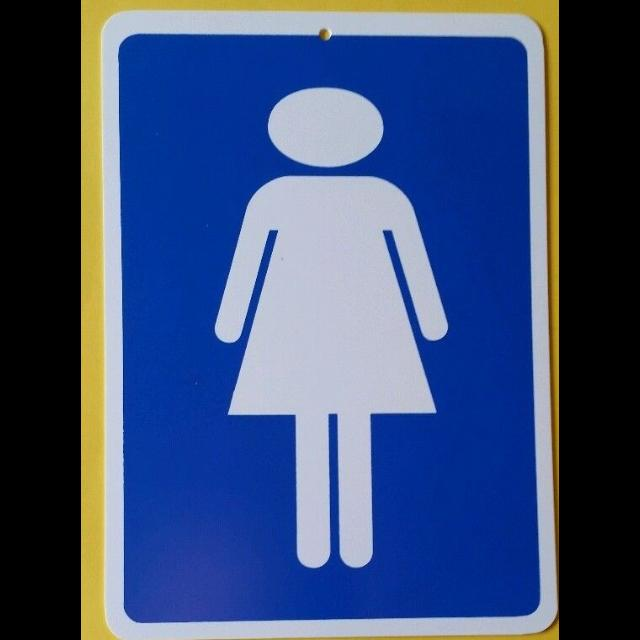wc nu: (103, 11, 557, 639)
